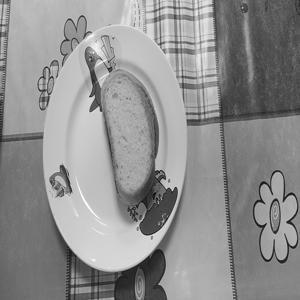bread: (88, 59, 182, 214)
